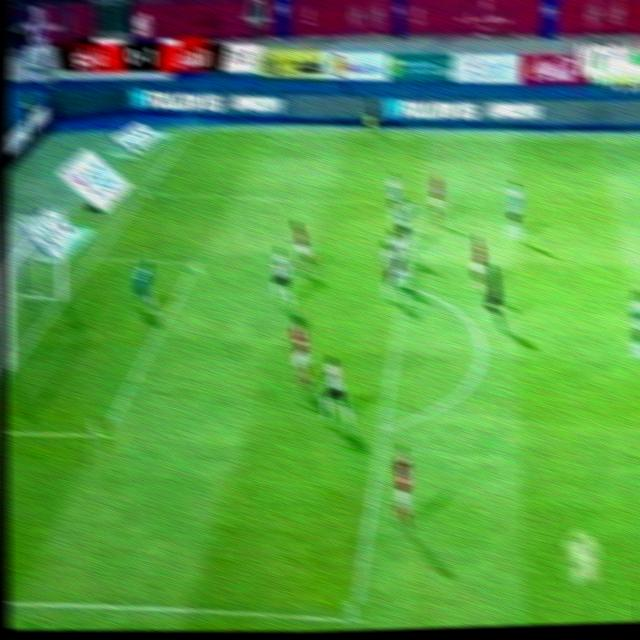bigarea_bottom_inner: (342, 600, 365, 630)
bigarea_top_inner: (404, 193, 419, 212)
bigarea_top_outter: (135, 182, 152, 199)
bottom_arc_area_intersection: (372, 416, 393, 444)
corner: (184, 124, 199, 133)
smallarea_bottom_inner: (88, 416, 113, 452)
smallarea_top_inner: (185, 253, 205, 275)
smallarea_top_outter: (82, 247, 100, 266)
